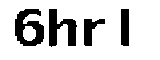6: (11, 4, 47, 51)
I: (118, 3, 141, 54)
h: (47, 6, 79, 52)
r: (81, 16, 110, 51)
